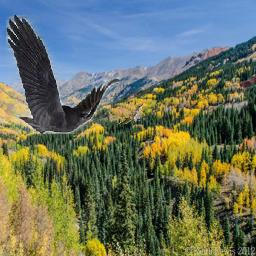Crow: (6, 16, 120, 135)
Cuckoo: (119, 104, 144, 125)
